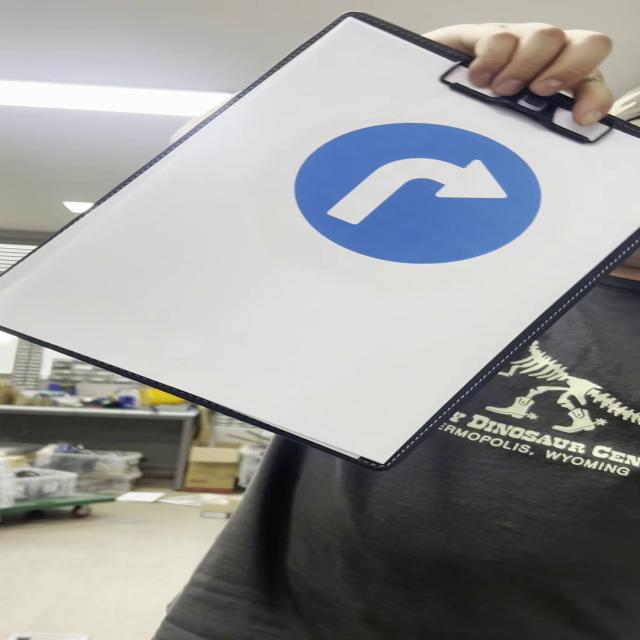right: (299, 125, 545, 264)
